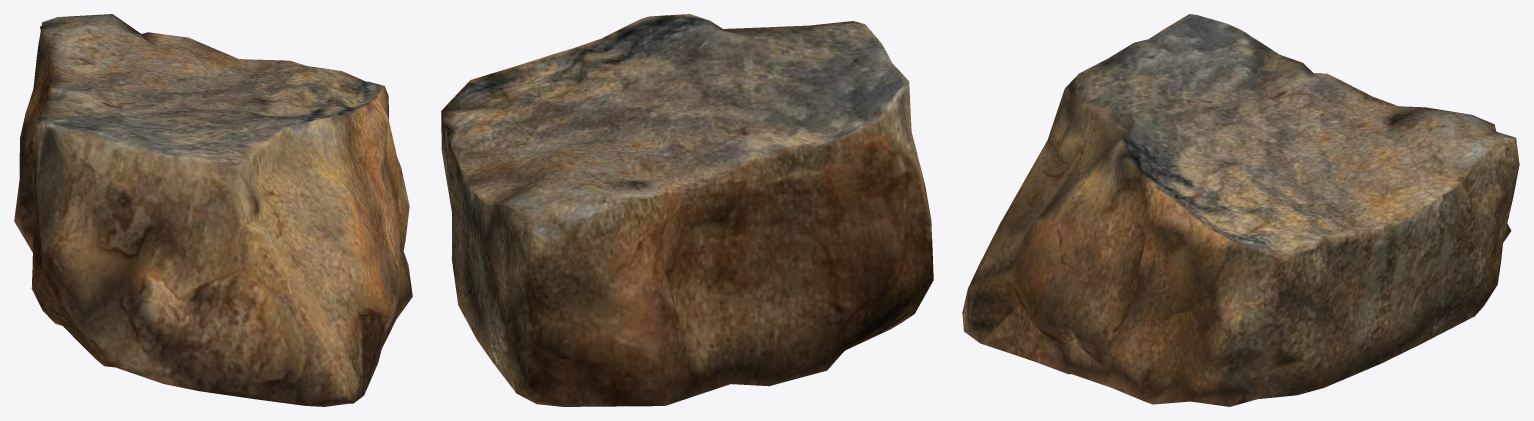
Rendered from boulder-c.glb.
3 renders of one model, left to right at view 1: azimuth 30°, elevation 25°; view 2: azimuth 150°, elevation 25°; view 3: azimuth 270°, elevation 25°, orthographic. The views are drawn at different scales.
Parts seen in each view (by area): view 1: boulder_03_LOD0; view 2: boulder_03_LOD0; view 3: boulder_03_LOD0.
Boxes of the visible parts, x1,y1,x2,y2 form: boulder_03_LOD0: (14, 14, 412, 406); boulder_03_LOD0: (441, 14, 933, 406); boulder_03_LOD0: (962, 14, 1519, 406).
Size of the model in its own units: 2.39 by 1.47 by 3.06.
Materials: 1 (1 with a texture image).
